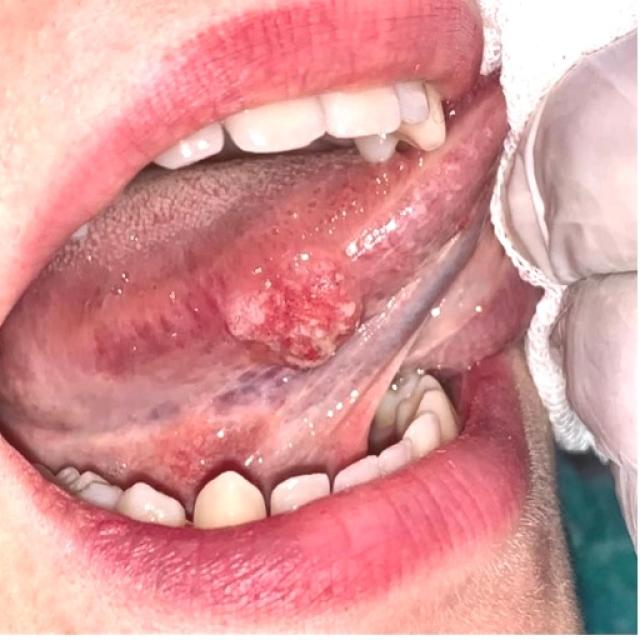cancer-detection: (73, 227, 403, 380)
processing_area: (1, 72, 528, 504)
